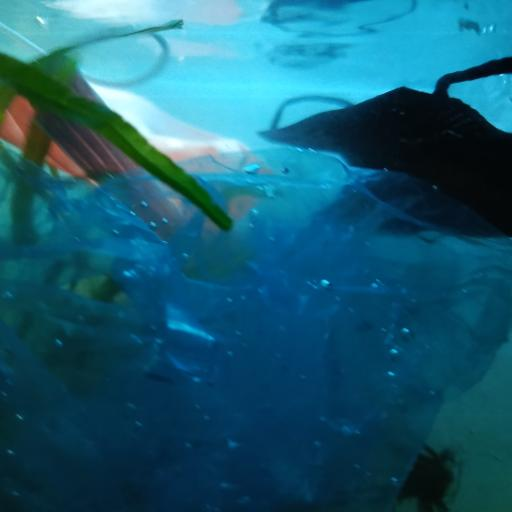mask: (2, 50, 280, 238), (260, 58, 512, 234)
plastic_bag: (0, 144, 512, 512)
